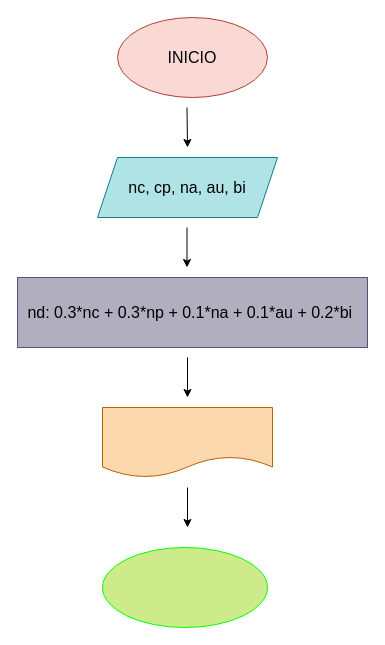
Some shapes in this 385 by 645 pixel diagram are drawn without their labels. Each missing label, with the centre of its shape:
FIN: the point at 185,587
nd: the point at 187,442
